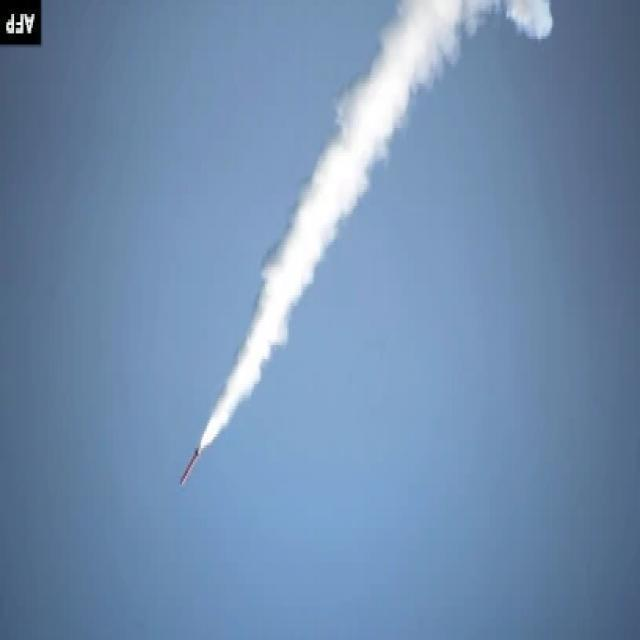Missile: (179, 436, 202, 494)
